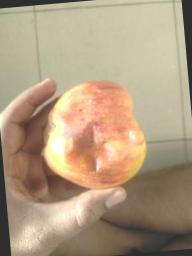Apple Overripe: (25, 64, 181, 220)
